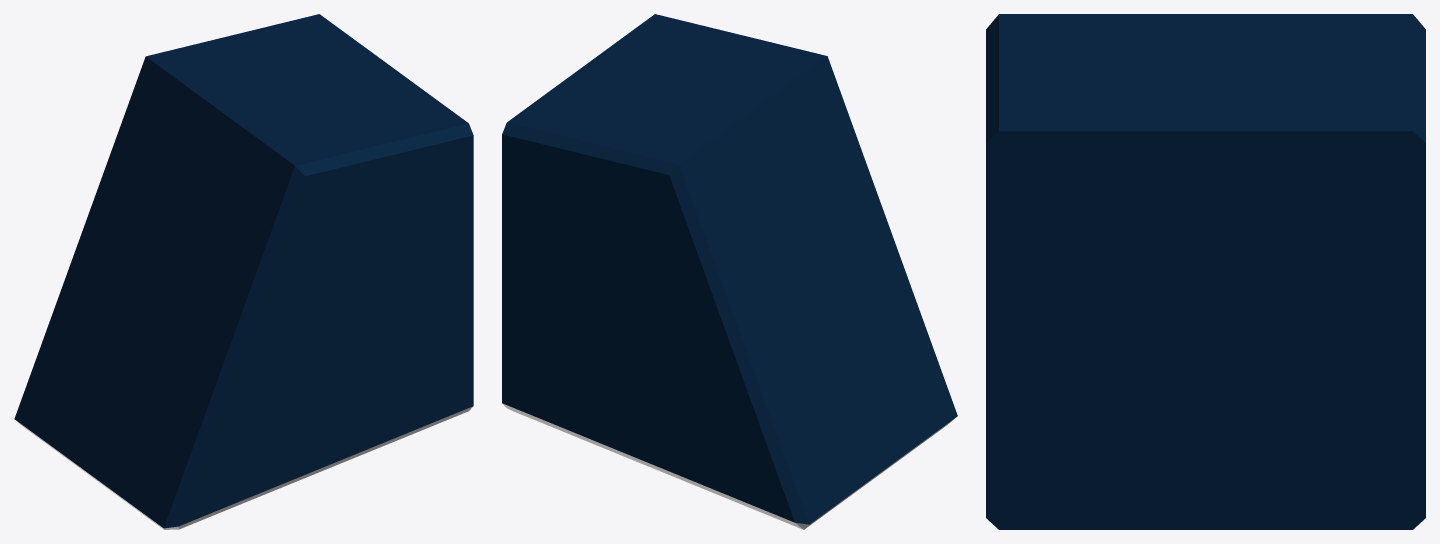
Rendered from spotlight.fbx.
3 views of the same model, side by side, from view 1: azimuth 30°, elevation 25°; view 2: azimuth 150°, elevation 25°; view 3: azimuth 270°, elevation 25° (orthographic). The views are drawn at different scales.
Visible parts, largest first — view 1: Light.001; view 2: Light.001; view 3: Light.001.
Boxes of the visible parts, x1,y1,x2,y2 form: Light.001: (14, 14, 473, 529); Light.001: (502, 14, 957, 529); Light.001: (986, 14, 1425, 529).
Bounding box in the file's own units: 114 × 120 × 103.
